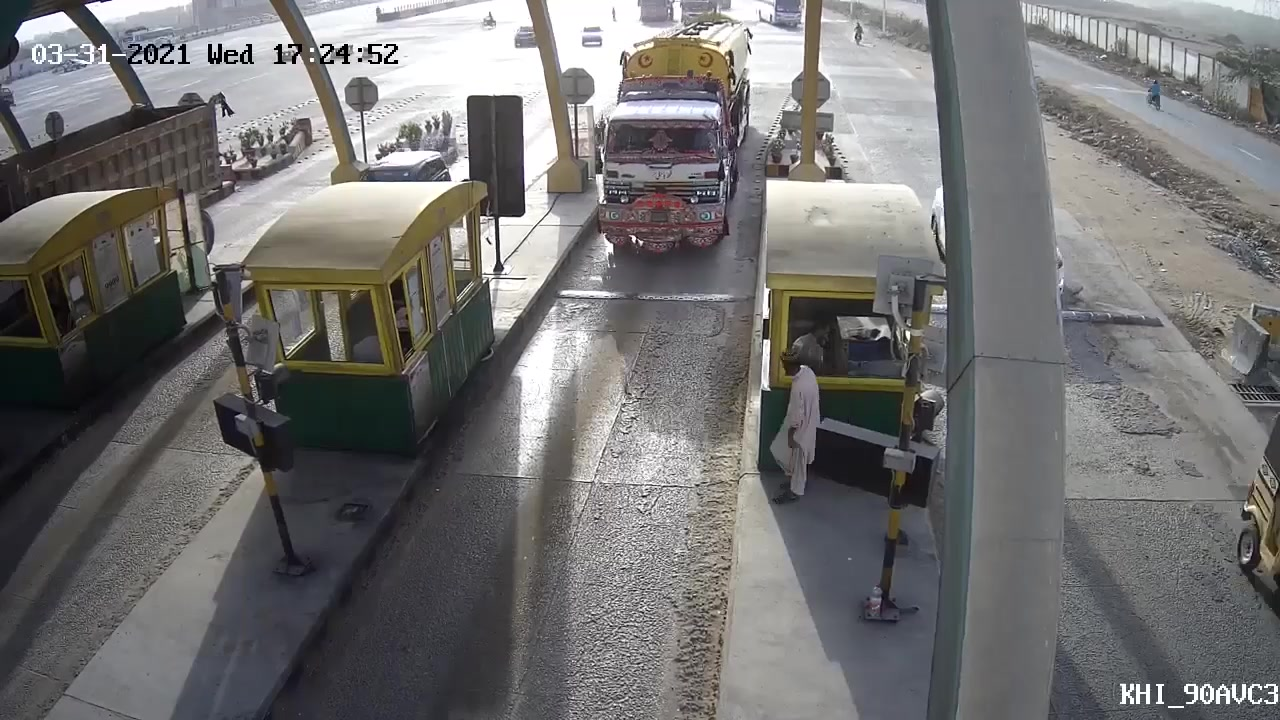F6: (585, 38, 752, 259)
